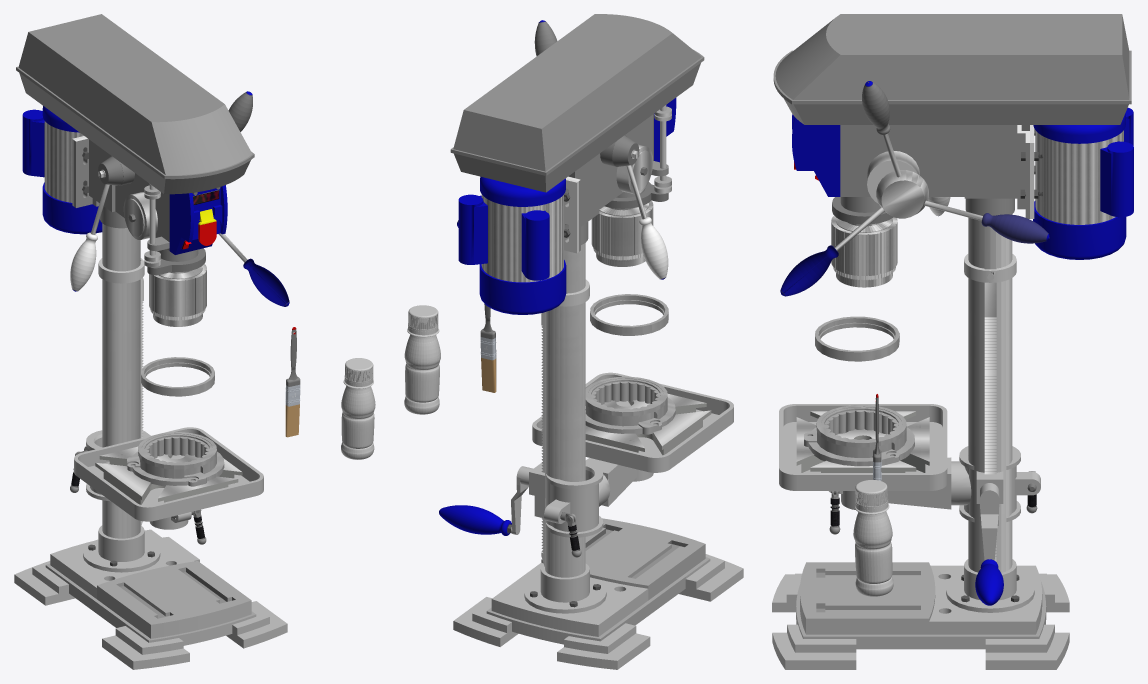
3 renders of one model, left to right at view 1: azimuth 30°, elevation 25°; view 2: azimuth 150°, elevation 25°; view 3: azimuth 270°, elevation 25°, orthographic. The views are drawn at different scales.
Parts seen in each view (by area): view 1: 01, 04, bottle3, 03, 1.001, 02.001, 2.001, 1, Paint+Brush+2; view 2: 01, 04, bottle3, 03, 1.001, 1, 2.001, Paint+Brush+2, 02.001; view 3: 01, 04, 02.001, bottle3, 03, 1.001, 1, 2.001.
Part boxes in pixels (<box>): 01: <box>14,14,287,669</box>; 04: <box>70,427,263,544</box>; bottle3: <box>341,358,375,459</box>; 03: <box>149,264,206,326</box>; 1.001: <box>127,432,224,486</box>; 02.001: <box>218,91,289,306</box>; 2.001: <box>142,434,212,475</box>; 1: <box>141,357,214,396</box>; Paint+Brush+2: <box>285,327,300,437</box>; 01: <box>450,14,743,669</box>; 04: <box>439,372,733,557</box>; bottle3: <box>404,305,440,414</box>; 03: <box>591,200,653,266</box>; 1.001: <box>585,376,675,434</box>; 1: <box>590,294,668,335</box>; 2.001: <box>588,378,663,418</box>; Paint+Brush+2: <box>480,303,496,392</box>; 02.001: <box>457,20,557,227</box>; 01: <box>772,14,1133,669</box>; 04: <box>779,404,1040,605</box>; 02.001: <box>780,81,1049,296</box>; bottle3: <box>853,480,893,596</box>; 03: <box>831,215,897,287</box>; 1.001: <box>804,405,914,466</box>; 1: <box>815,316,899,361</box>; 2.001: <box>821,407,902,441</box>.
Size of the model in its own units: 687 by 1225 by 676.
Materials: 44 (12 with a texture image).
